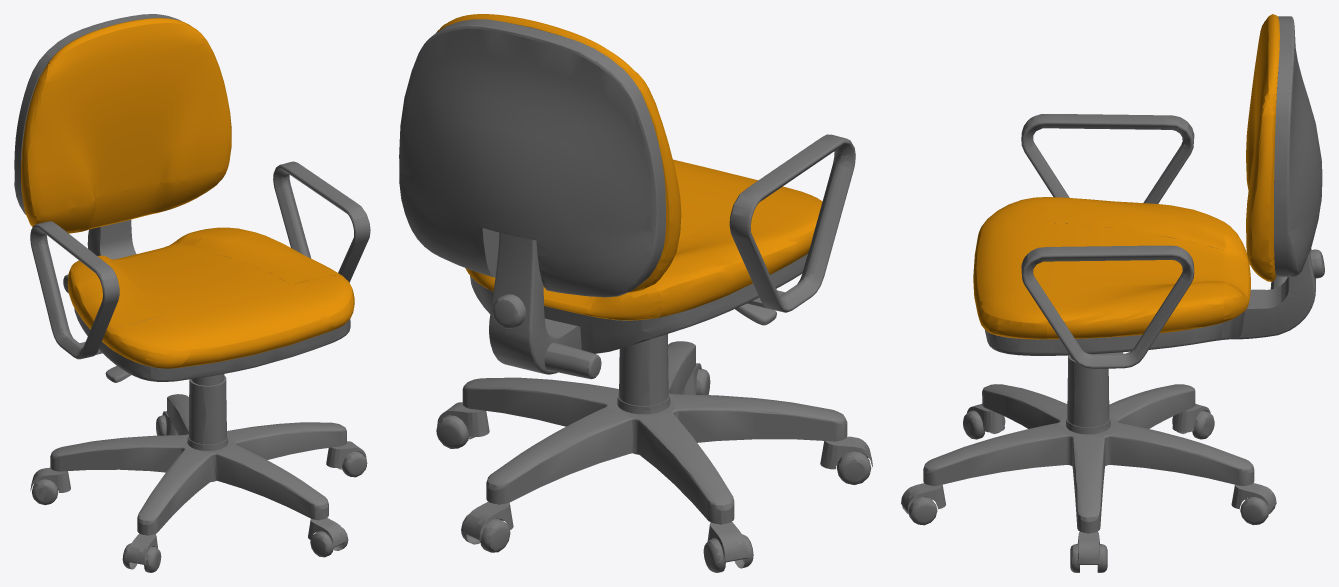
File: officechair.fbx
3 views of the same model, side by side, from view 1: azimuth 30°, elevation 25°; view 2: azimuth 150°, elevation 25°; view 3: azimuth 270°, elevation 25° (orthographic). The views are drawn at different scales.
Parts seen in each view (by area): view 1: Office Chair; view 2: Office Chair; view 3: Office Chair.
Boxes of the visible parts, box(x1,y1,x2,y2) form: Office Chair: box(14, 14, 370, 572); Office Chair: box(399, 14, 872, 572); Office Chair: box(901, 14, 1324, 572).
Size of the model in its own units: 12.43 by 17.38 by 14.48.
